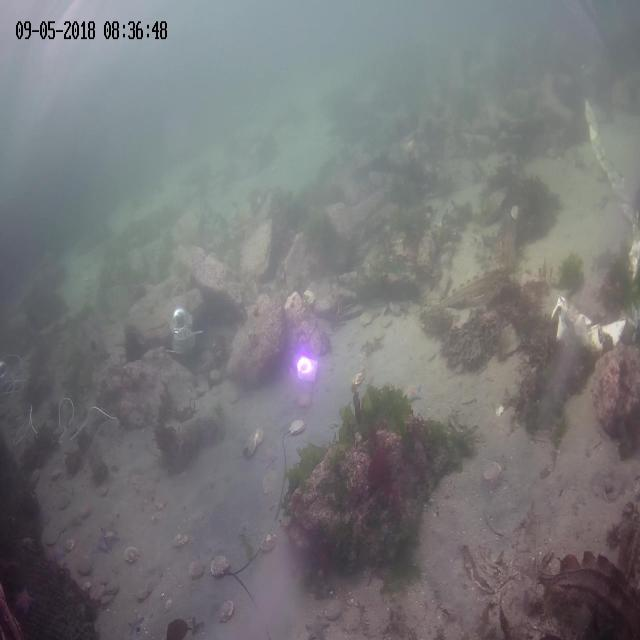scallop: (212, 549, 230, 575), (242, 435, 258, 460), (218, 598, 234, 623), (188, 559, 204, 581), (251, 421, 264, 447), (326, 598, 343, 616), (171, 533, 188, 551), (260, 534, 276, 552), (124, 546, 138, 563), (62, 538, 72, 550)
starfish: (303, 611, 330, 640), (97, 520, 117, 547), (402, 383, 422, 401)
